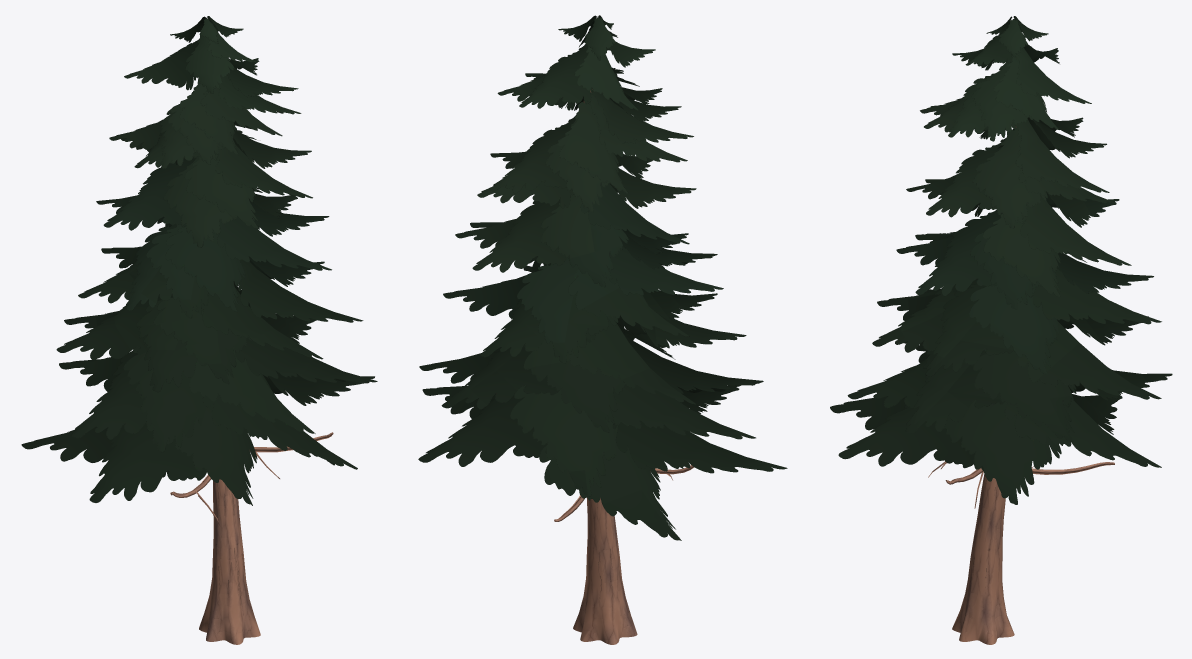
File: pinheiro-alto.glb
3 views of the same model, side by side, from view 1: azimuth 30°, elevation 25°; view 2: azimuth 150°, elevation 25°; view 3: azimuth 270°, elevation 25° (orthographic). The views are drawn at different scales.
Size of the model in its own units: 5.8 by 10.24 by 5.37.
Materials: 8 (8 with a texture image).
